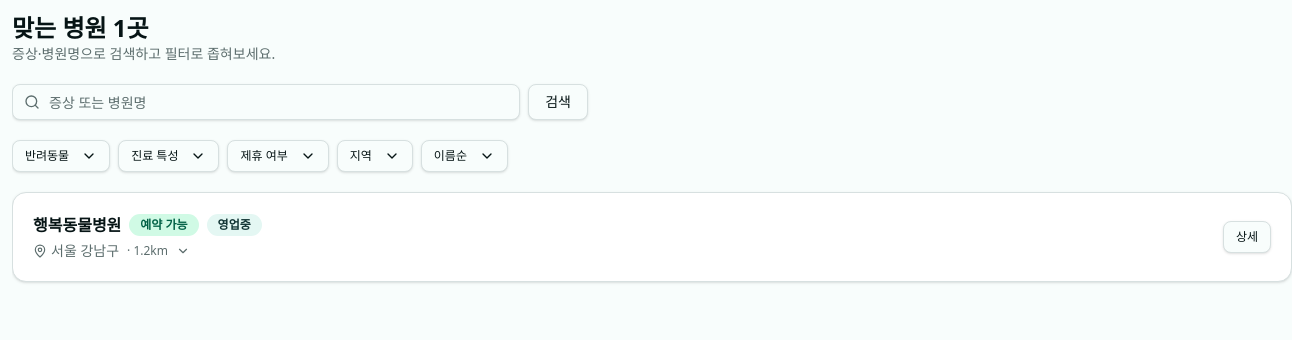
Test: HospitalSearchPage filters › 위치 권한이 거부되면 거리순으로 바꾸지 않고 안내를 보여준다
Click the button "이름순".
click(464, 156)  # box top-left (421, 140), bottom-right (508, 172)
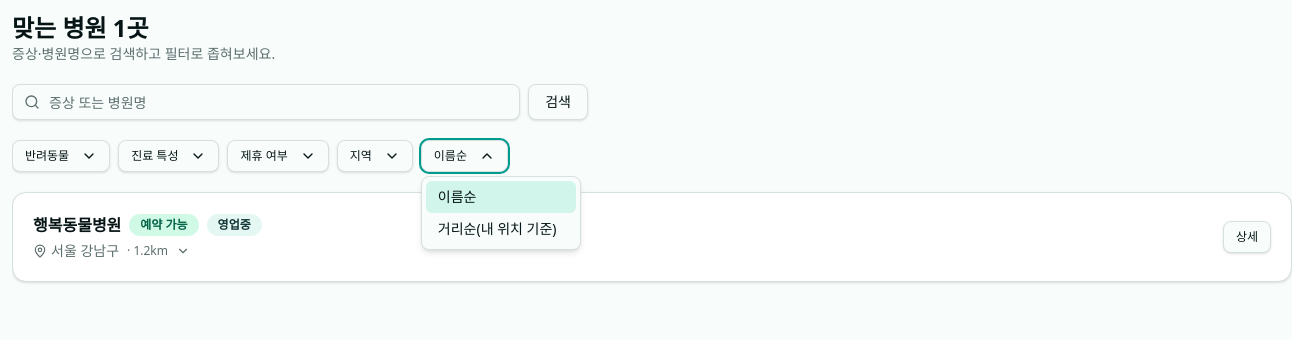
Click the button "거리순(내 위치 기준)".
click(501, 229)  # box top-left (426, 213), bottom-right (576, 245)
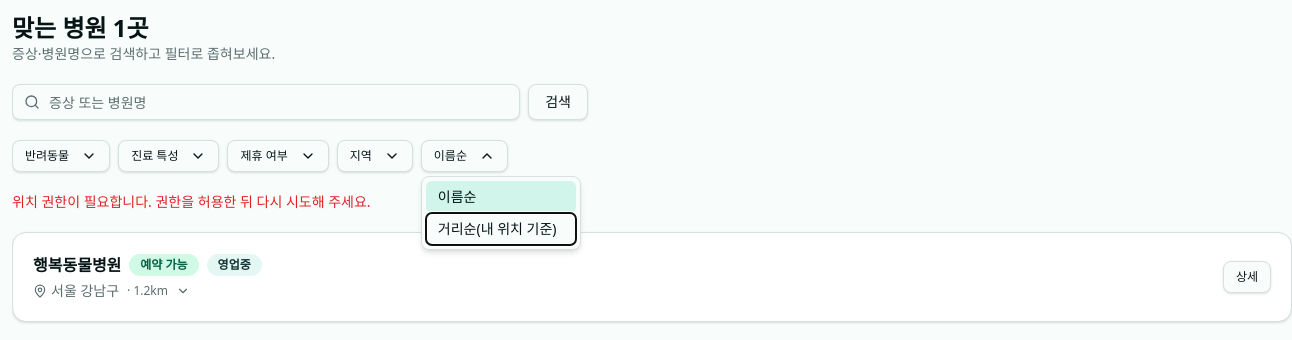
Expected: the message shows "위치 권한이 필요", top-left (12, 192), bottom-right (371, 211)
